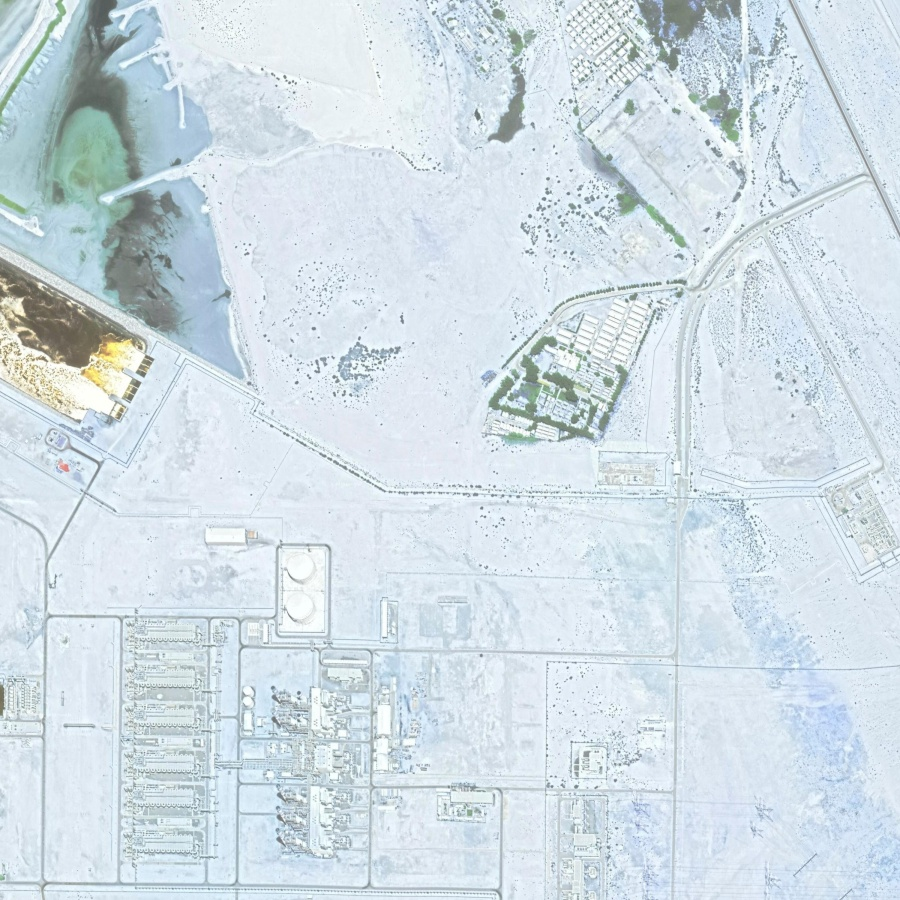PowerPlant: (118, 520, 450, 864)
